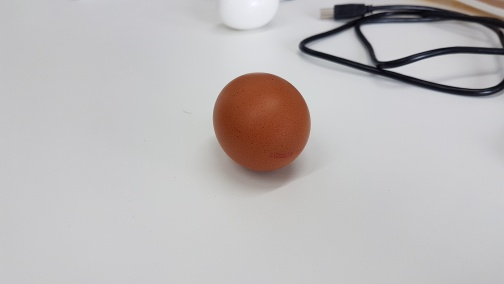egg: (213, 70, 311, 174)
